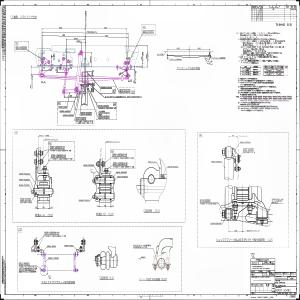PartNumber: (275, 288, 291, 292), (272, 97, 282, 100), (272, 95, 282, 98), (282, 97, 292, 100), (246, 103, 256, 106), (264, 105, 274, 108), (63, 114, 72, 117), (243, 95, 252, 98), (253, 97, 262, 100), (263, 97, 272, 100), (263, 95, 272, 98), (282, 95, 291, 98), (244, 97, 252, 100), (252, 108, 264, 110), (265, 108, 276, 110), (80, 112, 90, 114), (98, 117, 108, 119), (98, 115, 108, 117), (98, 112, 108, 114), (142, 30, 152, 32), (264, 72, 274, 74), (264, 68, 274, 70), (274, 68, 284, 70), (210, 222, 220, 224), (112, 153, 122, 155), (78, 200, 88, 202), (44, 232, 54, 234), (58, 106, 67, 108), (98, 105, 107, 107), (119, 90, 128, 92), (119, 89, 128, 91), (257, 82, 266, 84), (252, 92, 261, 94), (240, 142, 249, 144), (243, 150, 252, 152), (243, 148, 252, 150), (211, 160, 220, 162), (200, 201, 209, 203), (200, 199, 209, 201), (112, 155, 121, 157), (113, 162, 122, 164), (116, 171, 125, 173), (117, 176, 126, 178), (83, 164, 92, 166), (49, 148, 58, 150), (51, 156, 60, 158), (51, 154, 60, 156), (19, 173, 28, 175), (19, 184, 28, 186), (20, 200, 29, 202), (20, 198, 29, 200), (44, 233, 53, 235), (47, 245, 56, 247), (48, 257, 57, 259), (19, 264, 28, 266), (18, 262, 27, 264), (16, 48, 24, 50), (16, 46, 24, 48), (60, 110, 68, 112), (76, 118, 84, 120), (76, 116, 84, 118), (102, 87, 110, 89), (168, 166, 176, 168), (80, 114, 90, 115), (142, 32, 152, 33), (274, 72, 284, 73), (112, 164, 122, 165), (64, 245, 74, 246), (253, 96, 262, 97), (49, 146, 58, 147), (19, 179, 28, 180)
